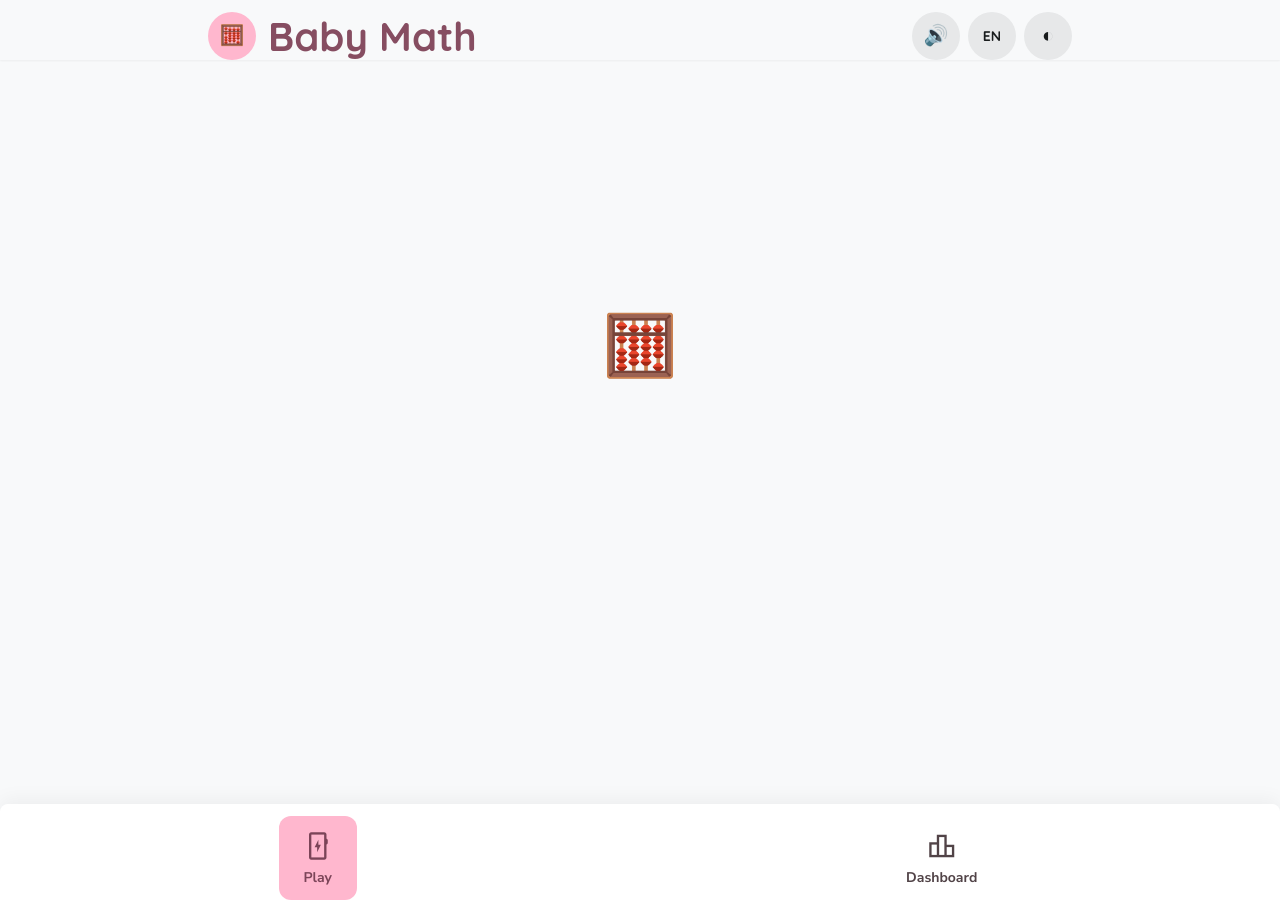
Scenario: App - FE-003 › shows PIN gate when navigating to Dashboard
Click the text "Dashboard".
click(942, 878)  # box [906,868,977,888]
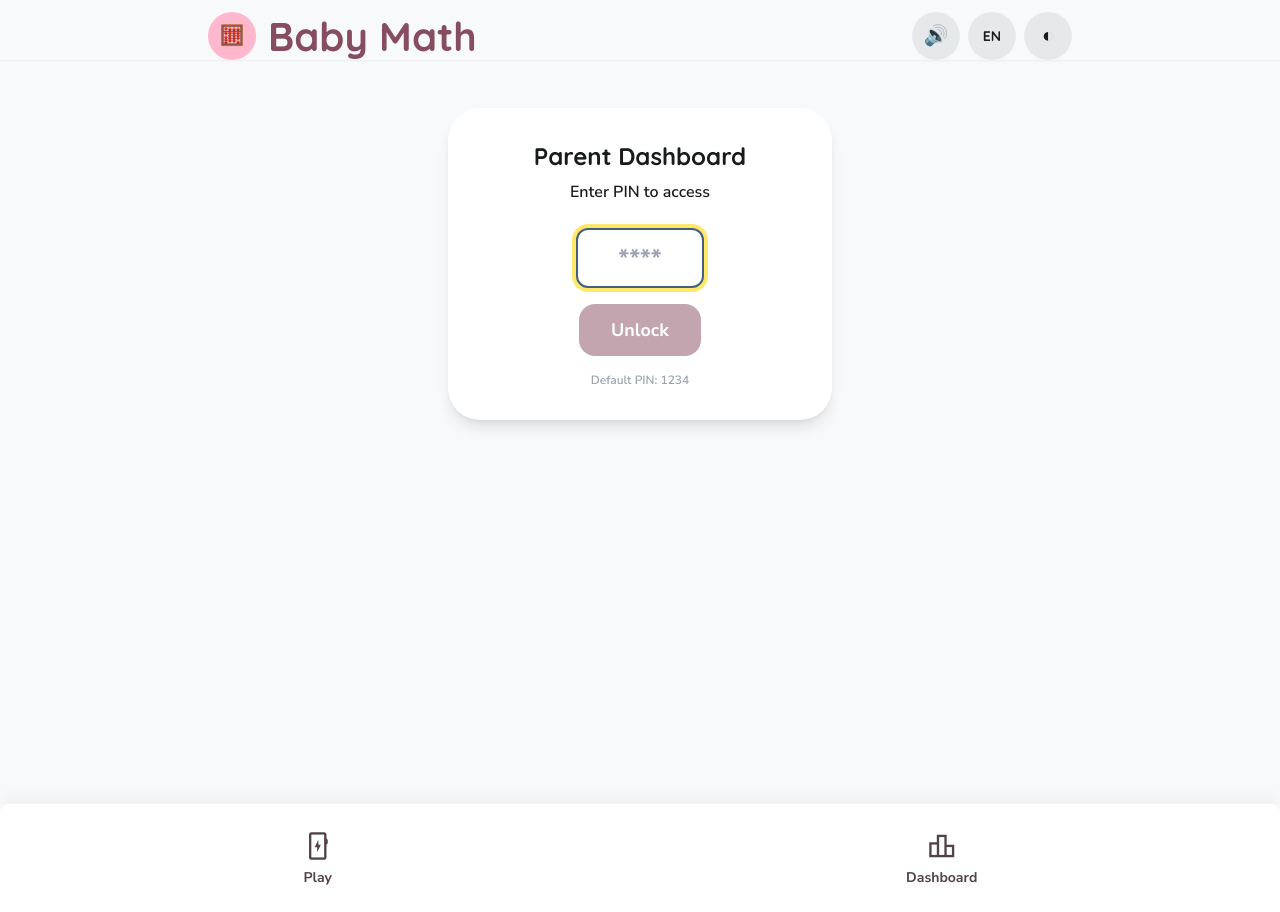
Now the text "Enter PIN to access" is shown, box [570,181,710,203]
